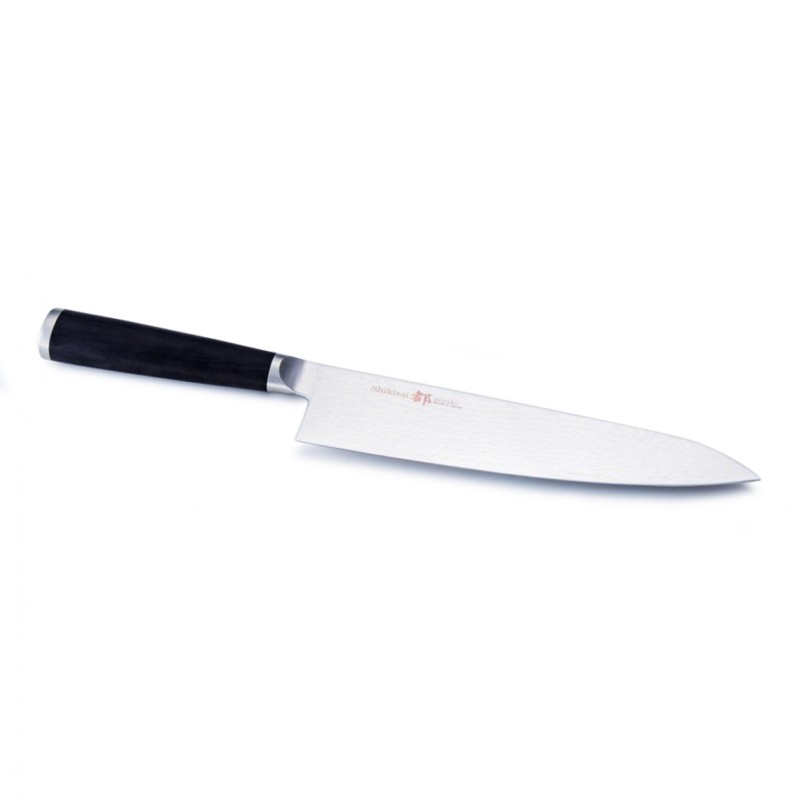knife: (37, 303, 764, 489)
